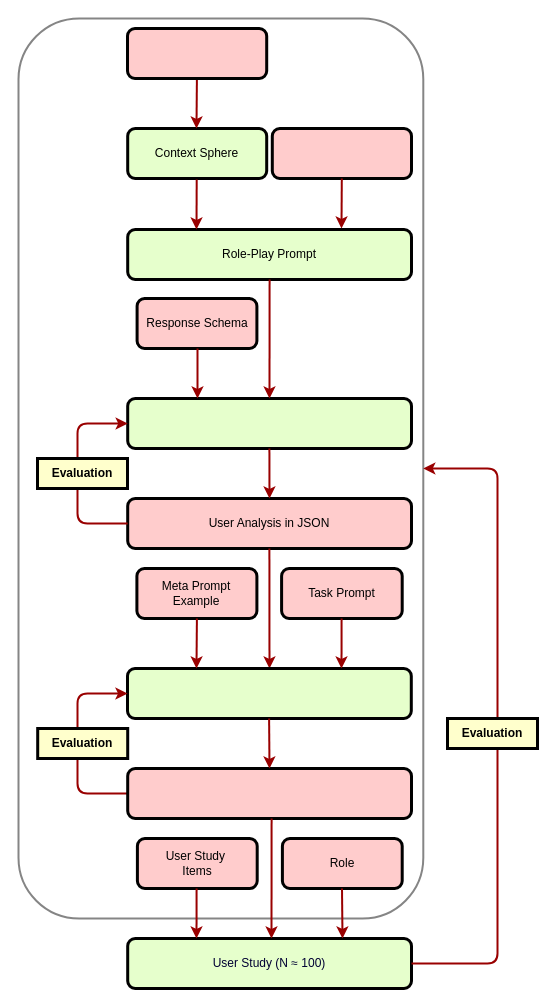
Image size: 556x1007. Some labels were removed from this diagram. Here are the shapes that lost their labels. From the top down, the centre of each, then its label:
At pixel 197 53: "Comments, Replies, Article Context, ...".
At pixel 341 153: "Role, Task".
At pixel 269 423: "LLM Request".
At pixel 269 693: "LLM Synthesize Request".
At pixel 269 793: "User Report in Markdown".
